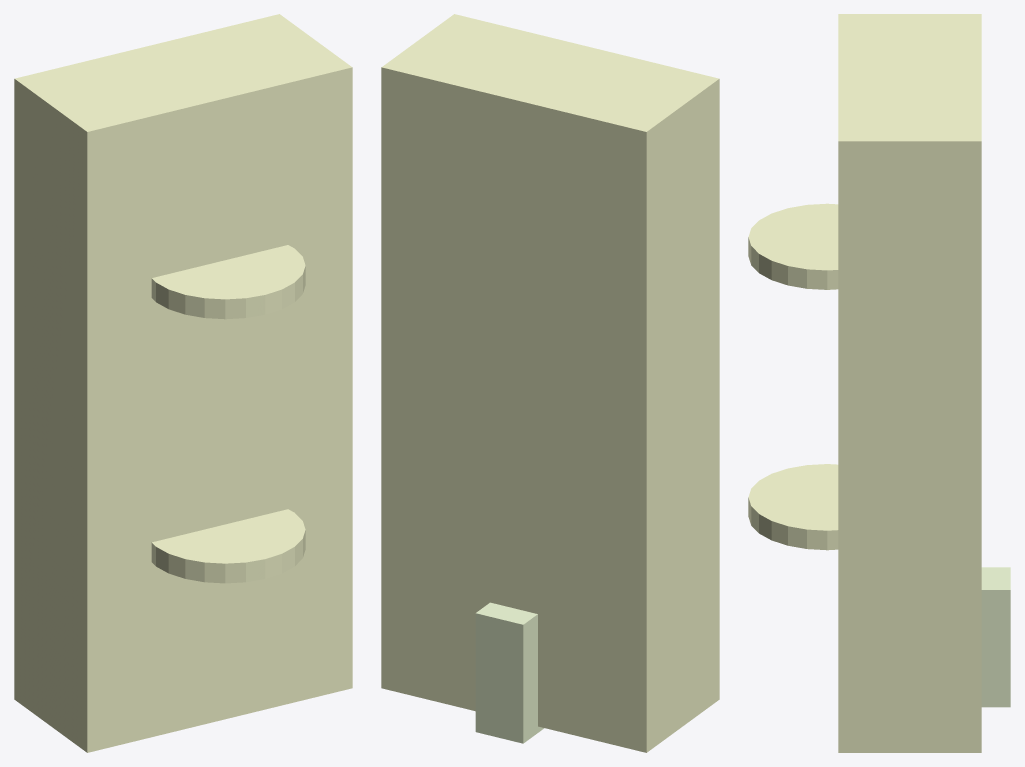
The model's file is signal_rail_crossing_dual_red_vertical.glb.
3 renders of one model, left to right at view 1: azimuth 30°, elevation 25°; view 2: azimuth 150°, elevation 25°; view 3: azimuth 270°, elevation 25°, orthographic.
Visible parts, largest first — view 1: housing, lens_rail_left, lens_rail_right; view 2: housing, bracket; view 3: housing, lens_rail_right, lens_rail_left, bracket.
Boxes of the visible parts, x1,y1,x2,y2 form: housing: [14, 14, 352, 752]; lens_rail_left: [151, 245, 305, 319]; lens_rail_right: [151, 509, 305, 583]; housing: [381, 14, 719, 752]; bracket: [475, 602, 544, 743]; housing: [838, 14, 981, 752]; lens_rail_right: [748, 464, 838, 550]; lens_rail_left: [748, 203, 838, 289]; bracket: [981, 567, 1010, 707].
Size of the model in its own units: 0.42 by 0.95 by 0.365.
